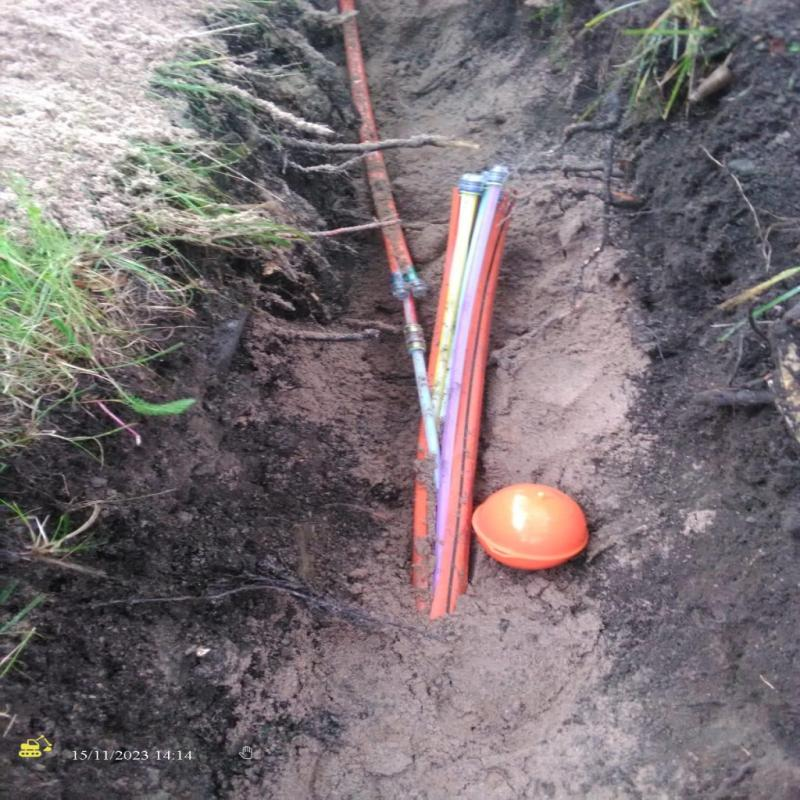Kugelmarker: (474, 483, 584, 570)
Orang-Speednetrohrchen: (414, 177, 516, 614), (335, 4, 429, 293)
